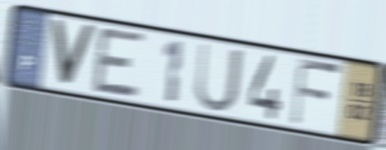1: (162, 39, 185, 107)
4: (247, 52, 283, 122)
E: (90, 24, 148, 102)
F: (288, 54, 344, 130)
U: (193, 40, 245, 115)
V: (48, 16, 99, 91)
